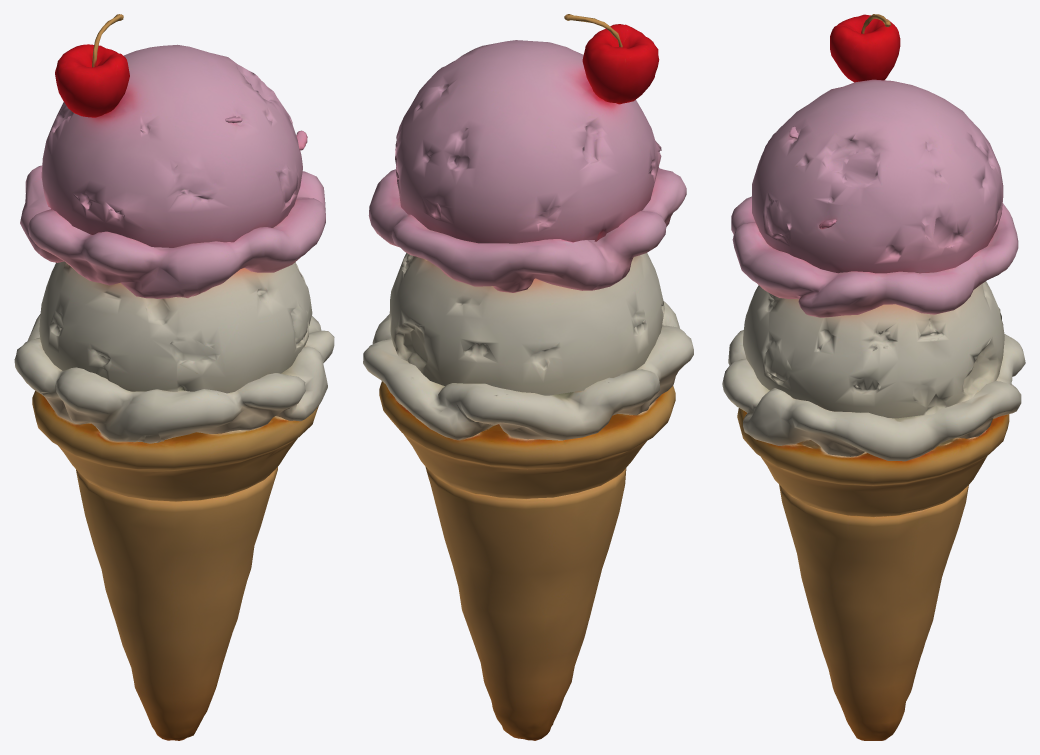
The model's file is r33-icecream.glb.
3 views of the same model, side by side, from view 1: azimuth 30°, elevation 25°; view 2: azimuth 150°, elevation 25°; view 3: azimuth 270°, elevation 25° (orthographic). The views are drawn at different scales.
Visible parts, largest first — view 1: tripo_node_132bde37-fd0e-4072-8b44-16fee069c235; view 2: tripo_node_132bde37-fd0e-4072-8b44-16fee069c235; view 3: tripo_node_132bde37-fd0e-4072-8b44-16fee069c235.
Part boxes in pixels (x1=…): tripo_node_132bde37-fd0e-4072-8b44-16fee069c235: x1=14, y1=14, x2=334, y2=740; tripo_node_132bde37-fd0e-4072-8b44-16fee069c235: x1=363, y1=14, x2=693, y2=740; tripo_node_132bde37-fd0e-4072-8b44-16fee069c235: x1=722, y1=14, x2=1025, y2=740.
Bounding box in the file's own units: 0.3965 × 0.998 × 0.3965.
1 material, 1 textured.
